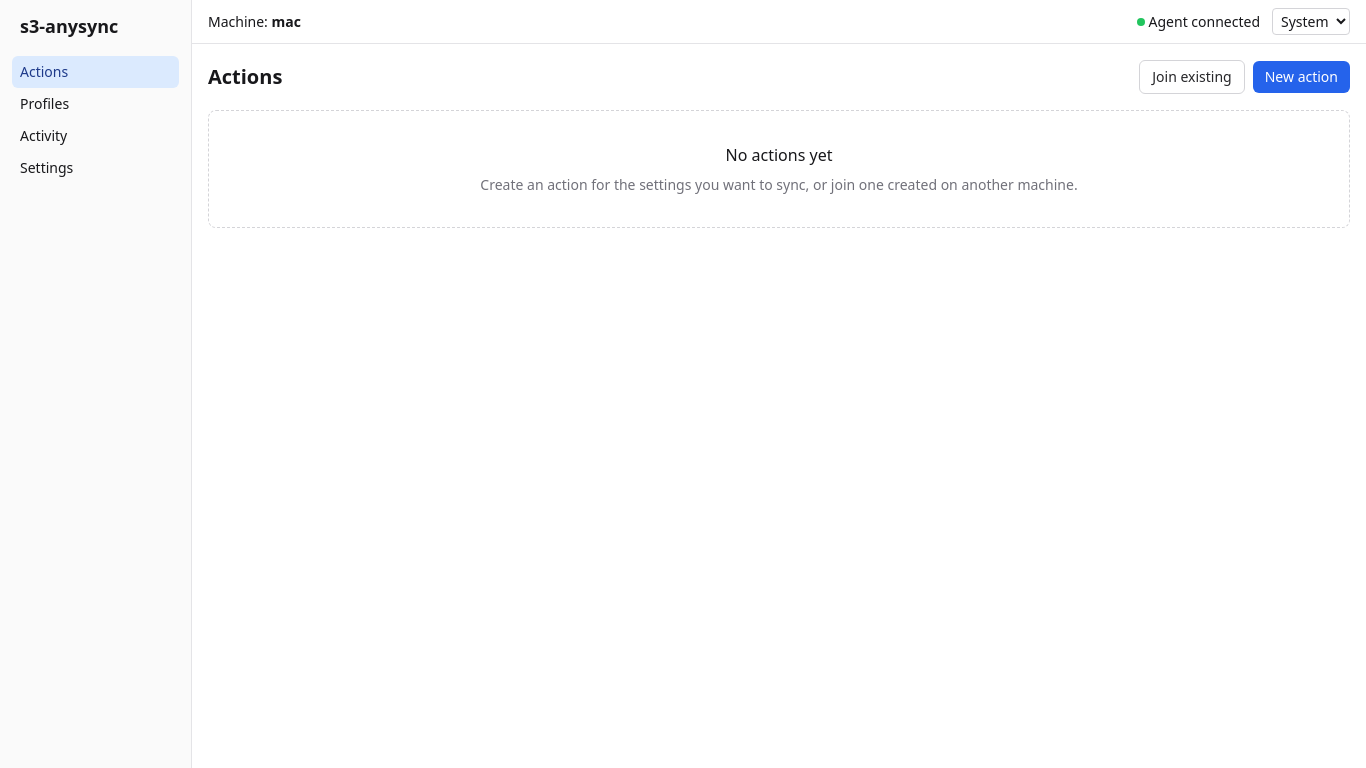
Test case: when enabling autostart fails the checkbox returns to its previous value
Click the button "Settings" at point(96, 168), box [12,152,179,184]
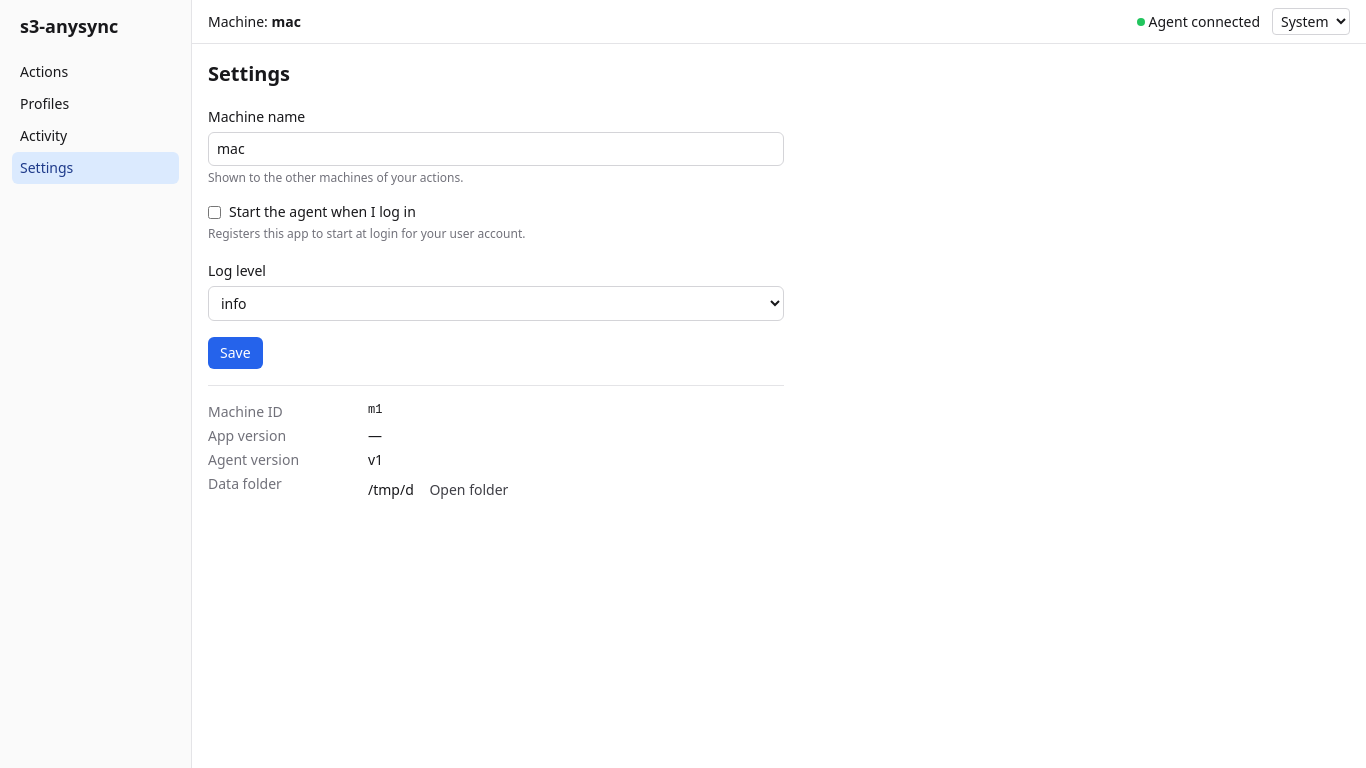
Click the checkbox labelled "Start the agent when I log in" at point(214, 212), box [208,206,221,218]
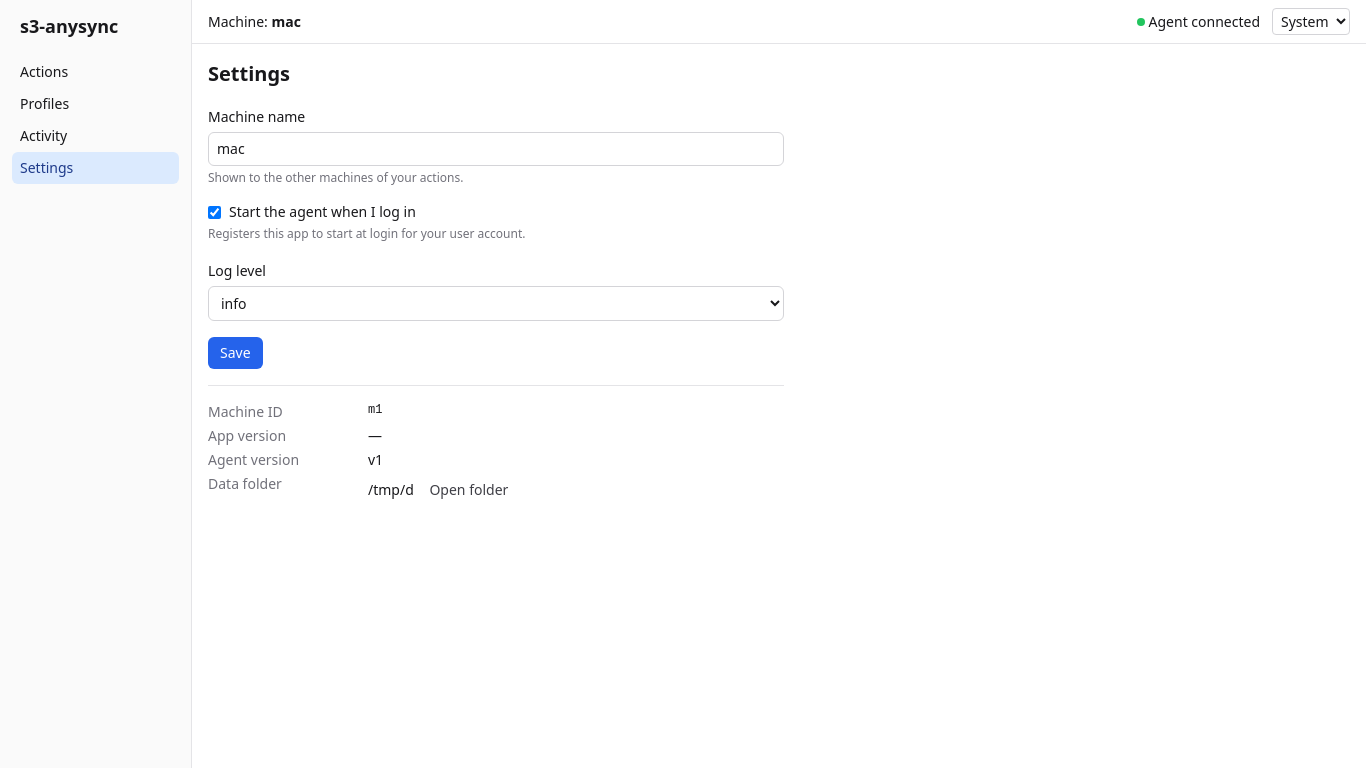
Check: the checkbox labelled "Start the agent when I log in" is checked, box [208,206,221,218]
Click the button "Save" at point(235, 353), box [208,337,263,369]
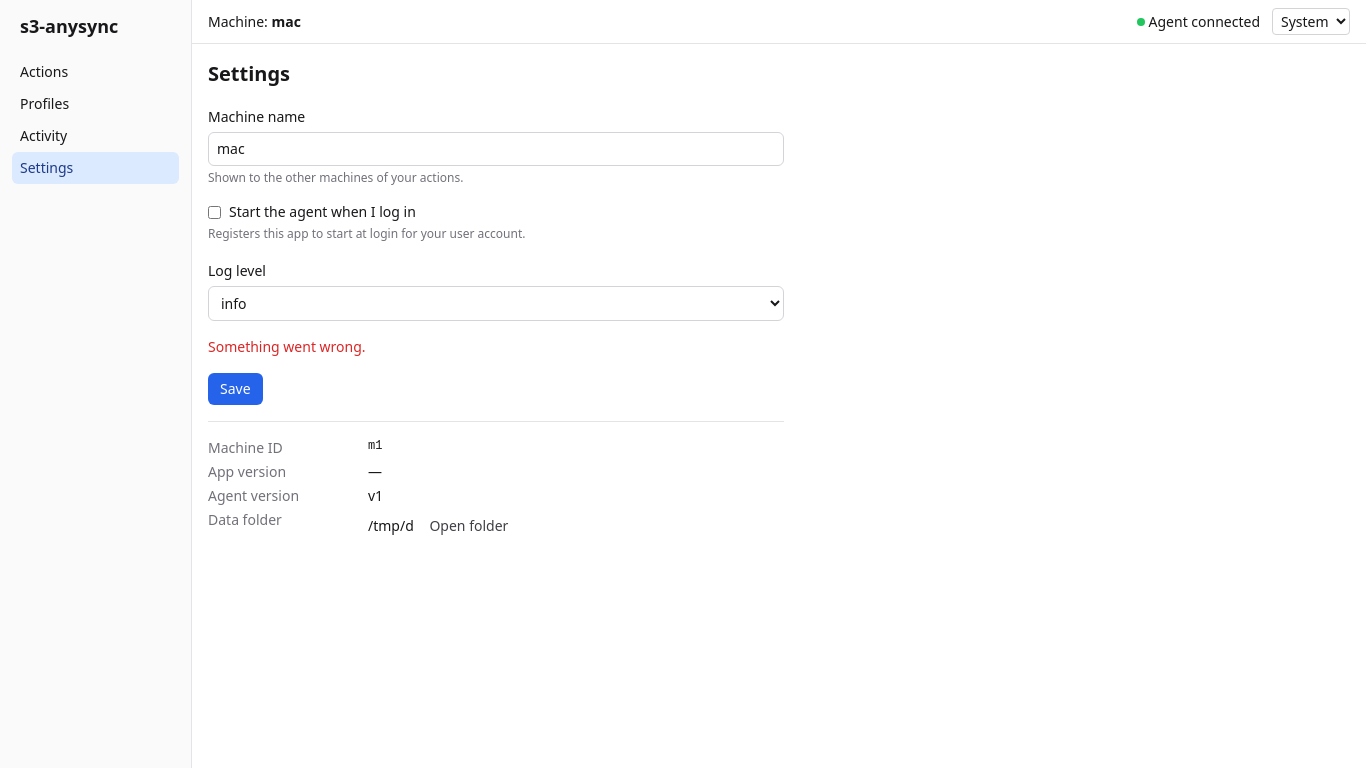
Check: the checkbox labelled "Start the agent when I log in" is not checked, box [208,206,221,218]
Check: the message reads "Something went wrong.", box [208,337,366,356]
